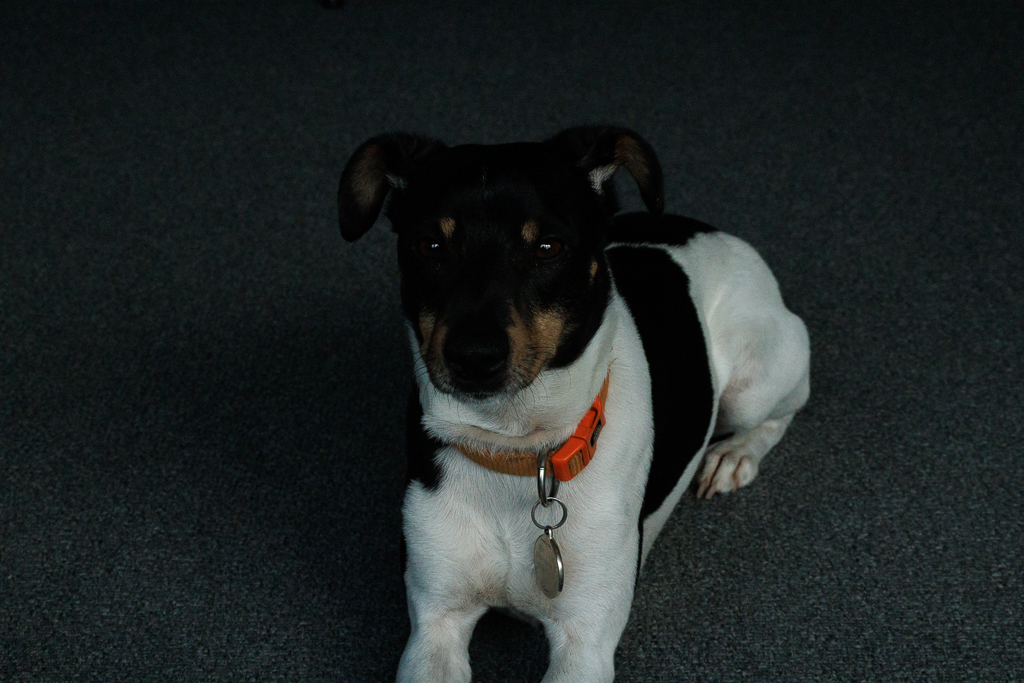Dog: (316, 110, 826, 683)
